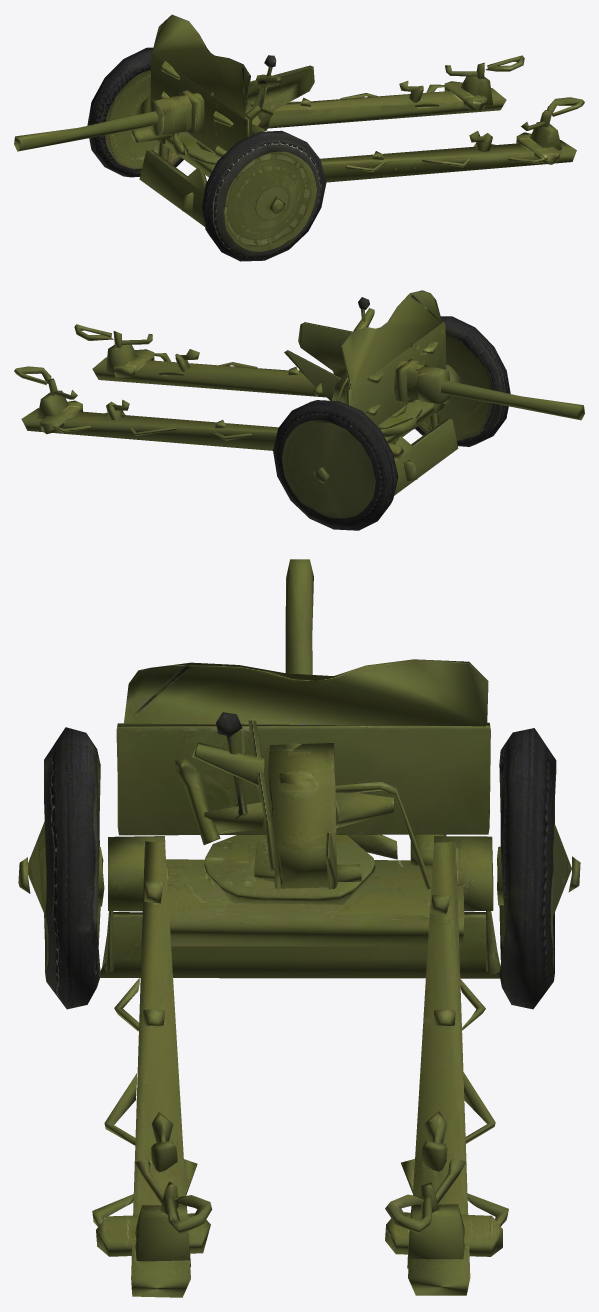
File: french_at47.glb
3 renders of one model, top to bottom at view 1: azimuth 30°, elevation 25°; view 2: azimuth 150°, elevation 25°; view 3: azimuth 270°, elevation 25°, orthographic. The views are drawn at different scales.
Visible parts, largest first — view 1: hull, wheel_left, wheel_right; view 2: hull, wheel_right, wheel_left; view 3: hull, wheel_right, wheel_left.
Part boxes in pixels (<box>): hull: <box>14,14,584,226</box>; wheel_left: <box>202,188,320,261</box>; wheel_right: <box>89,95,183,177</box>; hull: <box>14,290,584,495</box>; wheel_right: <box>277,466,398,530</box>; wheel_left: <box>415,364,510,446</box>; hull: <box>28,559,571,1297</box>; wheel_right: <box>486,819,580,1009</box>; wheel_left: <box>18,823,113,1009</box>.
Size of the model in its own units: 1 by 0.3086 by 0.4531.
1 material, 1 textured.
